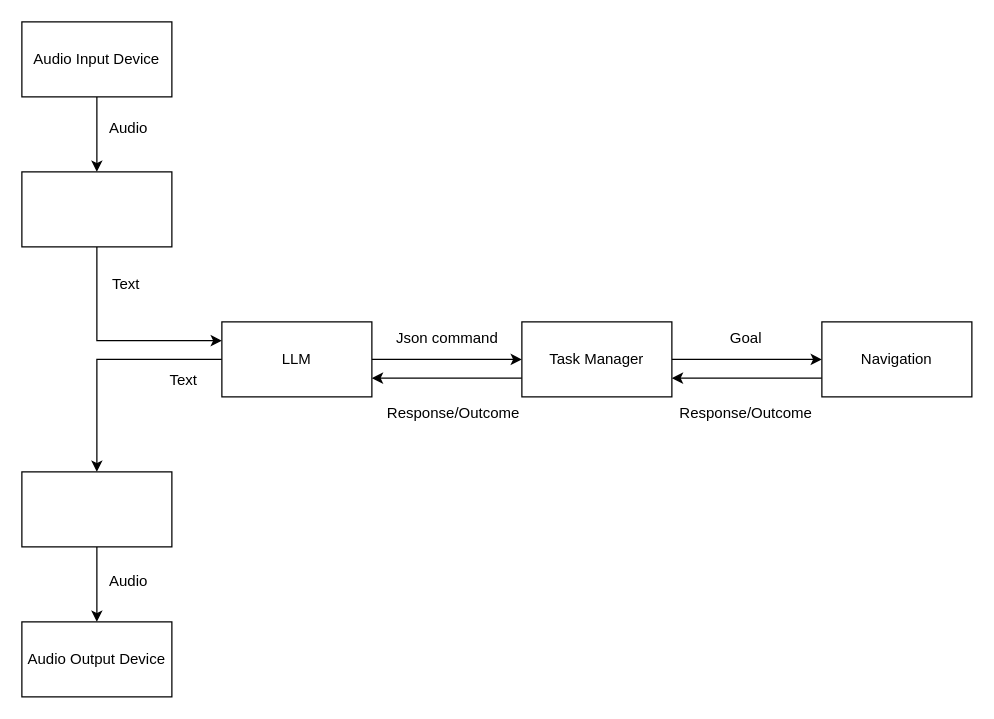
This 994x719 diagram has some shape labels left out. The shapes that lost their labels are listed below. From the top down, each one's centre as x and y in pixels, then its label:
At (x=96, y=209): "STT".
At (x=96, y=509): "TTS".
